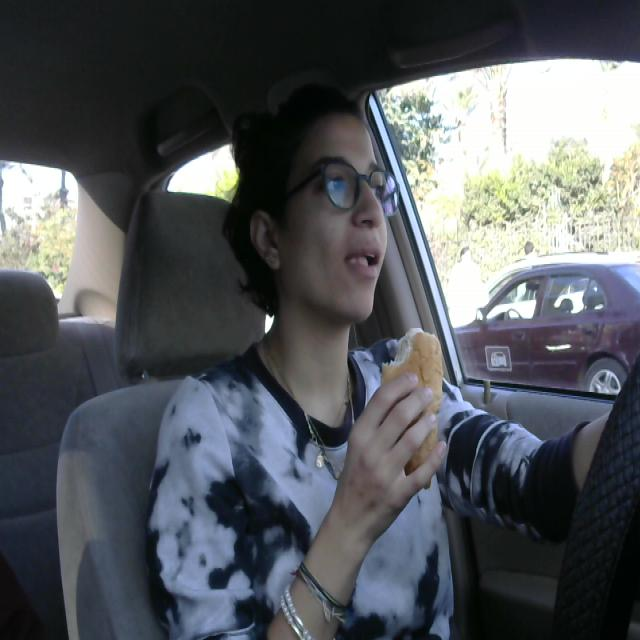eating: (375, 315, 451, 498)
